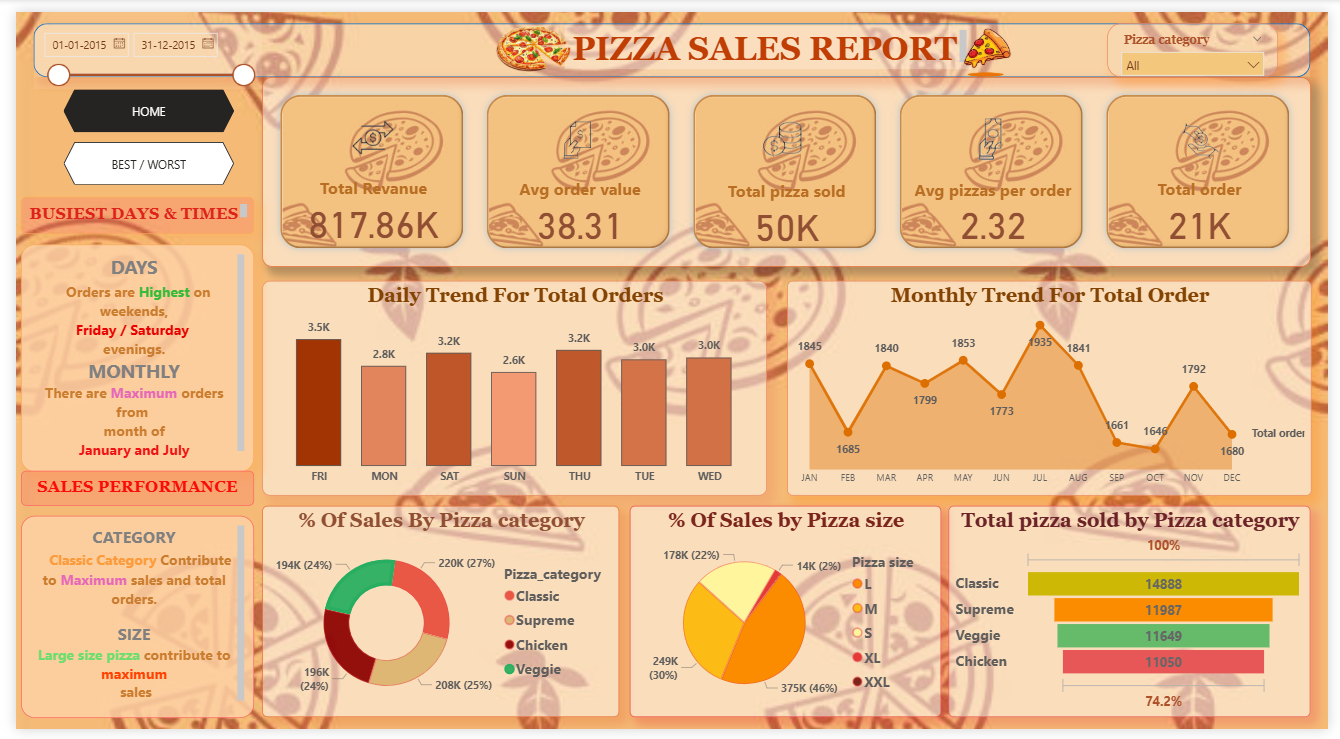

The page's visual inventory and layout, read from the dashboard file:
{"tool":"powerbi","page":{"name":"HOME","canvas":[1500,820],"ordinal":0},"visuals":[{"type":"cardVisual","fields":{"Data":["pizza_sales.Total Revanue","pizza_sales.Avg order value","pizza_sales.Total pizza sold","pizza_sales.Avg pizzas per order","pizza_sales.Total order"]},"box":[281.7,74.2,1198.1,217.1],"z":0},{"type":"shape","box":[20.6,12.4,1459.2,61.8],"z":1000},{"type":"textbox","box":[626.5,15.1,464.4,49.5],"z":2000},{"type":"image","box":[526.2,8.2,129.2,71.4],"z":3000},{"type":"image","box":[1042.9,0,134.7,87.9],"z":4000},{"type":"columnChart","title":"Daily Trend For Total Orders","fields":{"Category":["pizza_sales.order day"],"Y":["pizza_sales.Total order"]},"box":[281.7,307.8,577.1,245.9],"z":5000},{"type":"areaChart","title":"Monthly Trend For Total Order","fields":{"Category":["pizza_sales.order month"],"Y":["pizza_sales.Total order"]},"box":[880.7,307.8,599.1,245.9],"z":6000},{"type":"donutChart","title":"% Of Sales By Pizza category","fields":{"Category":["pizza_sales.pizza_category"],"Y":["pizza_sales.Total Revanue"]},"box":[281.7,564.7,408.1,241.8],"z":7000},{"type":"pieChart","title":"% Of Sales  by Pizza size","fields":{"Category":["pizza_sales.pizza_size"],"Y":["pizza_sales.Total Revanue"]},"box":[700.7,564.7,355.9,241.8],"z":8000},{"type":"funnel","title":"Total pizza sold by Pizza category","fields":{"Category":["pizza_sales.pizza_category"],"Y":["pizza_sales.Total pizza sold"]},"box":[1066.2,564.7,413.6,241.8],"z":9000},{"type":"textbox","box":[5.5,211.6,266.6,42.6],"z":10000},{"type":"textbox","box":[5.5,265.2,266.6,259.7],"z":11000},{"type":"textbox","box":[5.5,575.7,266.6,230.8],"z":12000},{"type":"textbox","box":[5.5,524.9,266.6,39.8],"z":13000},{"type":"slicer","fields":{"Values":["pizza_sales.pizza_category"]},"box":[1247.6,12.4,195.1,61.8],"z":14000},{"type":"slicer","fields":{"Values":["pizza_sales.order_date"]},"box":[20.6,0,261.1,87.9],"z":15000},{"type":"pageNavigator","box":[53.6,87.9,195.1,49.5],"z":15001},{"type":"pageNavigator","box":[53.6,148.4,195.1,49.5],"z":15002}]}

Visuals, with their boxes in screenshot pixels (x1, y1, x2, y2), scaled from the page's 1500x820 canvas onto the 1340x739 screenshot:
cardVisual - pizza_sales.Total Revanue x pizza_sales.Avg order value: detection(252, 67, 1322, 263)
shape: detection(18, 11, 1322, 67)
textbox: detection(560, 14, 975, 58)
image: detection(470, 7, 585, 72)
image: detection(932, 0, 1052, 79)
"Daily Trend For Total Orders" columnChart: detection(252, 277, 767, 499)
"Monthly Trend For Total Order" areaChart: detection(787, 277, 1322, 499)
"% Of Sales By Pizza category" donutChart: detection(252, 509, 616, 727)
"% Of Sales  by Pizza size" pieChart: detection(626, 509, 944, 727)
"Total pizza sold by Pizza category" funnel: detection(952, 509, 1322, 727)
textbox: detection(5, 191, 243, 229)
textbox: detection(5, 239, 243, 473)
textbox: detection(5, 519, 243, 727)
textbox: detection(5, 473, 243, 509)
slicer - pizza_sales.pizza_category: detection(1115, 11, 1289, 67)
slicer - pizza_sales.order_date: detection(18, 0, 252, 79)
pageNavigator: detection(48, 79, 222, 124)
pageNavigator: detection(48, 134, 222, 178)
